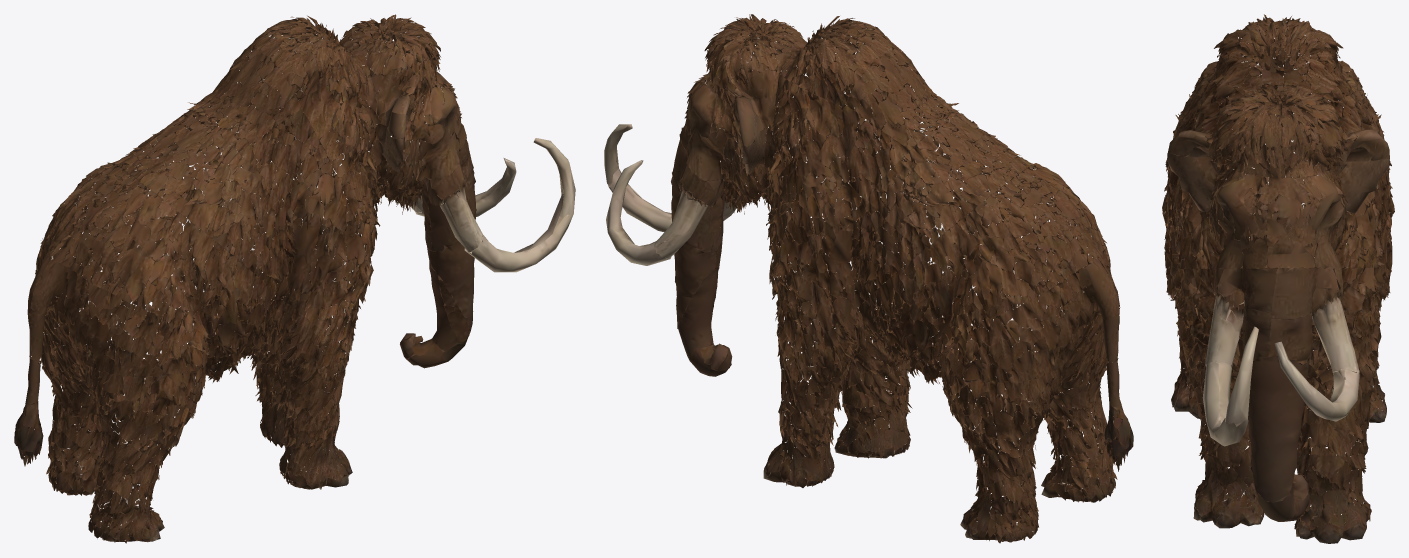
File: mammoth.glb
3 views of the same model, side by side, from view 1: azimuth 30°, elevation 25°; view 2: azimuth 150°, elevation 25°; view 3: azimuth 270°, elevation 25° (orthographic). The views are drawn at different scales.
Parts seen in each view (by area): view 1: Mesh_0; view 2: Mesh_0; view 3: Mesh_0.
Part boxes in pixels (bbox=[...]): Mesh_0: bbox=[14, 14, 575, 543]; Mesh_0: bbox=[604, 14, 1133, 543]; Mesh_0: bbox=[1162, 14, 1394, 543].
Bounding box in the file's own units: 4.14 × 3.2 × 1.36.
Materials: 1 (1 with a texture image).
